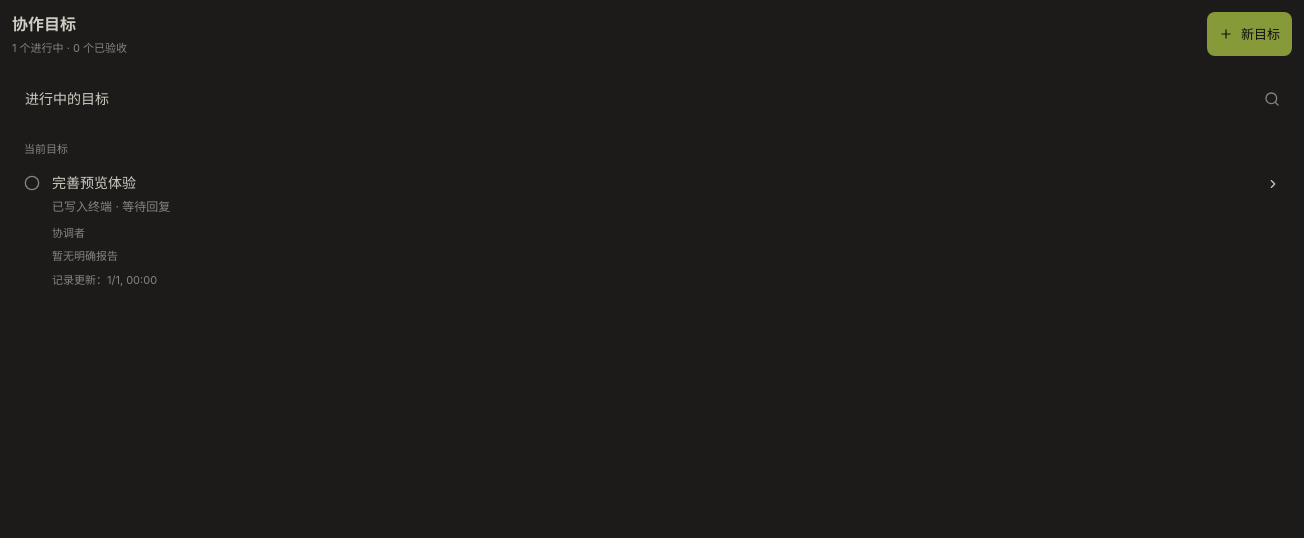
collaboration goal journeys › keeps a cancelled draft and coordinator choice for the next visit
The image size is (1304, 538).
Click the button "新目标" at (1250, 34), box [1207,12,1292,56]
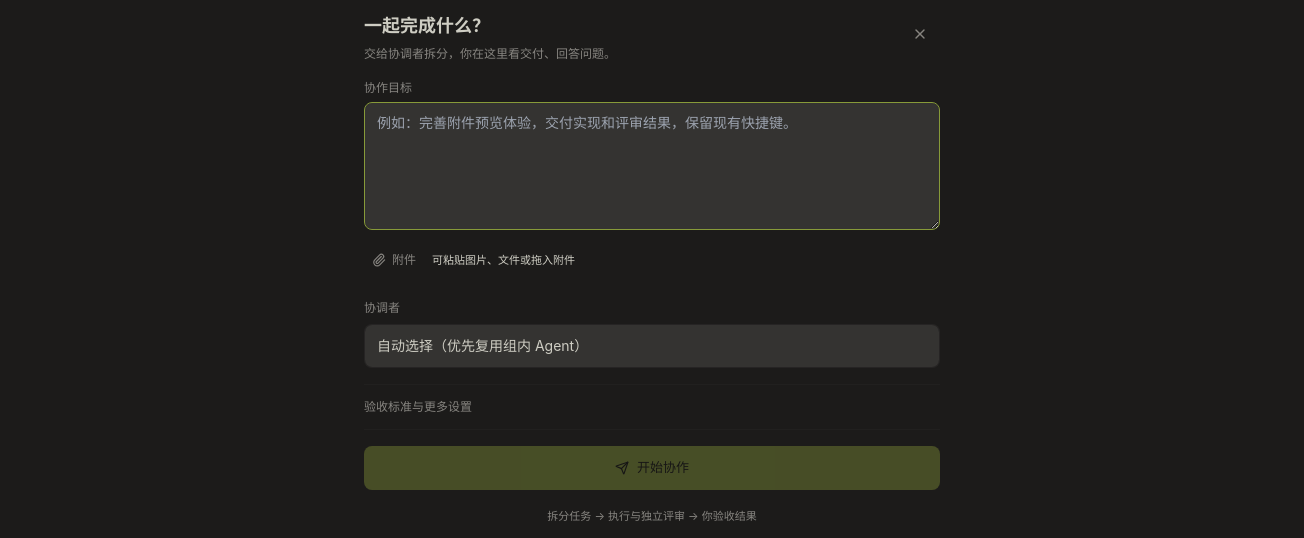
Type "还没有写完的目标" into the text box labelled "协作目标" at (652, 166), box [364,102,940,230]
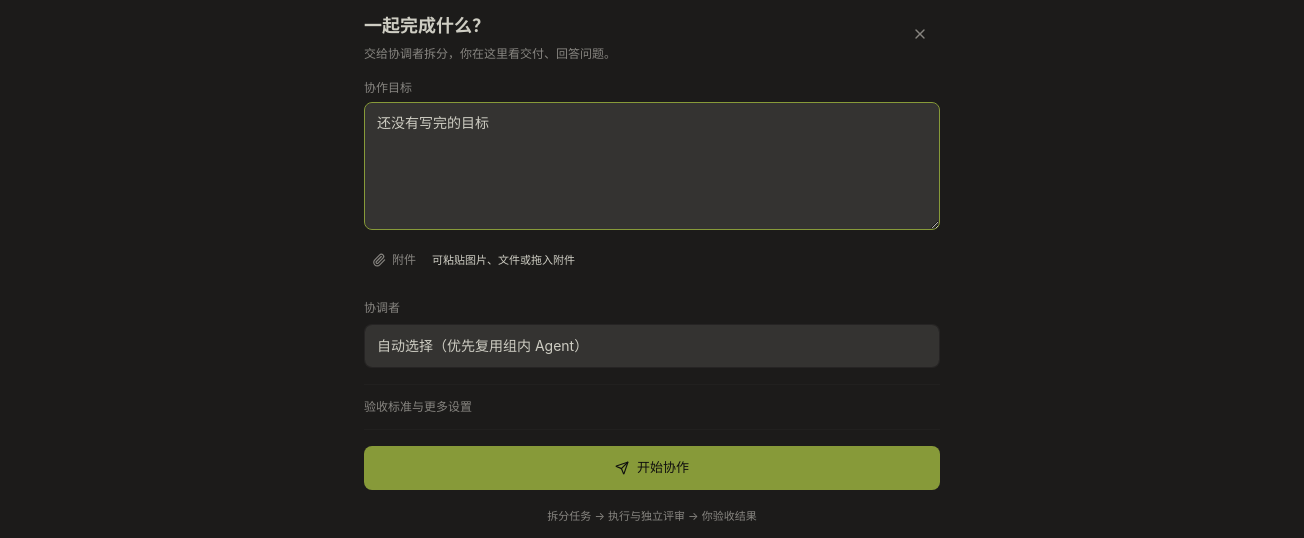
Select "执行成员 · Codex" in the dropdown labelled "协调者" at (652, 346), box [364,324,940,368]
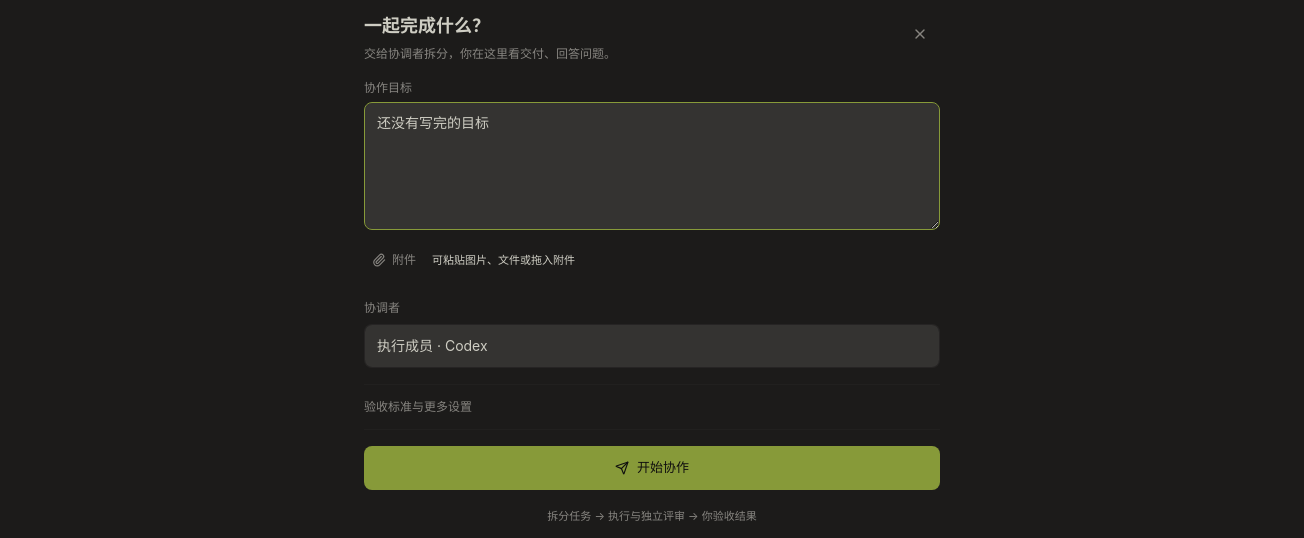
Click the button named "取消创建，保留草稿" at (920, 34), box [900,12,940,56]
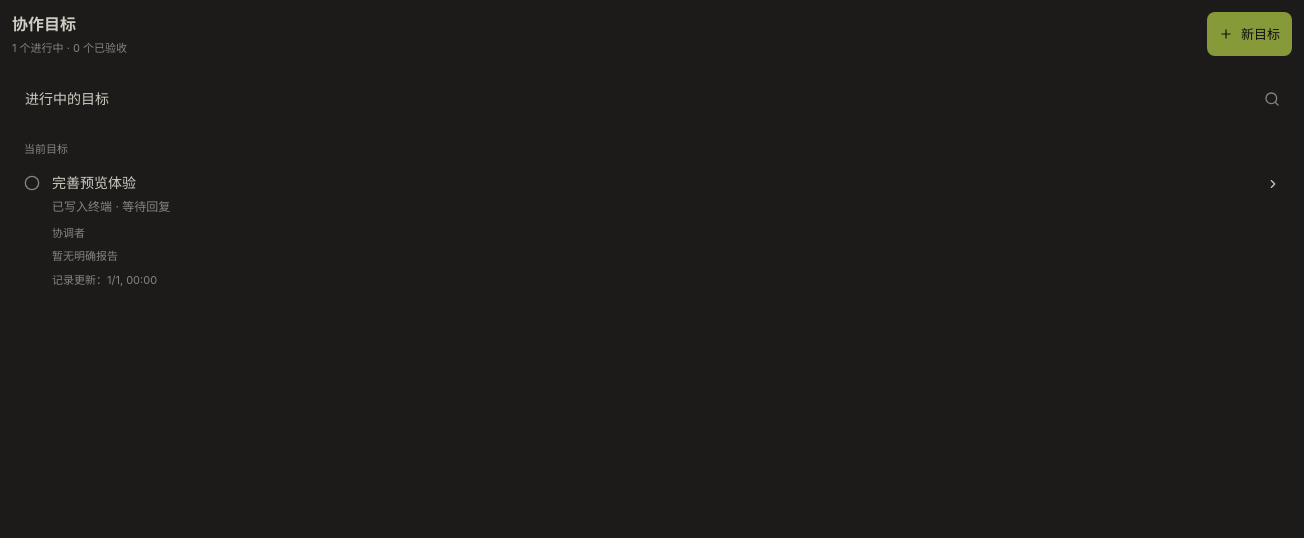
Click the button "新目标" at (1250, 34), box [1207,12,1292,56]
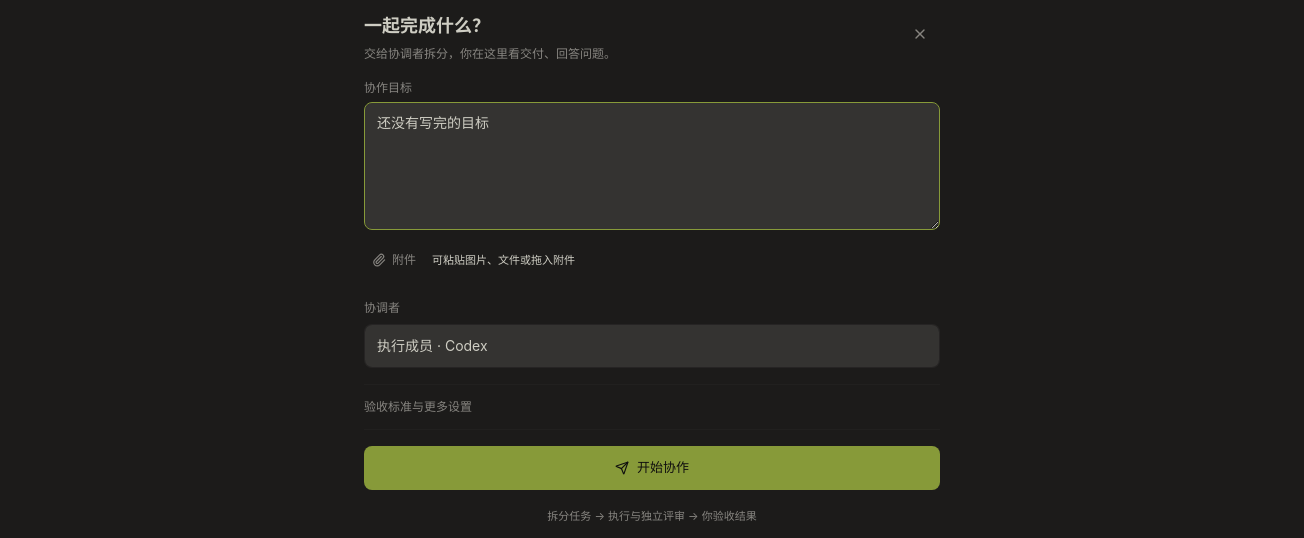
Now the text box labelled "协作目标" holds "还没有写完的目标", box [364,102,940,230]
Now the dropdown labelled "协调者" shows "执行成员 · Codex", box [364,324,940,368]
